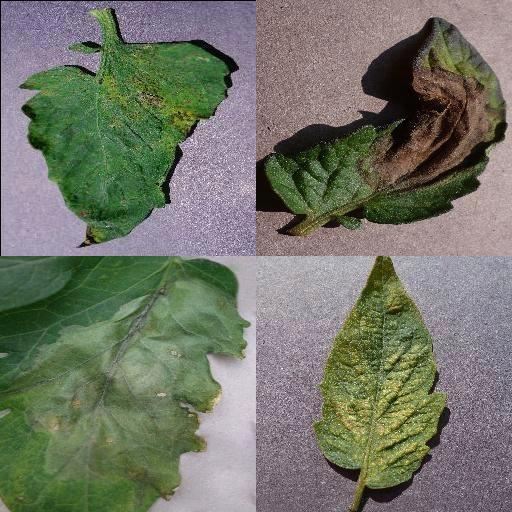Late Blight: (0, 256, 252, 512), (266, 18, 508, 232)
Septoria: (18, 41, 231, 249)
Spider Mites: (315, 256, 446, 489)
